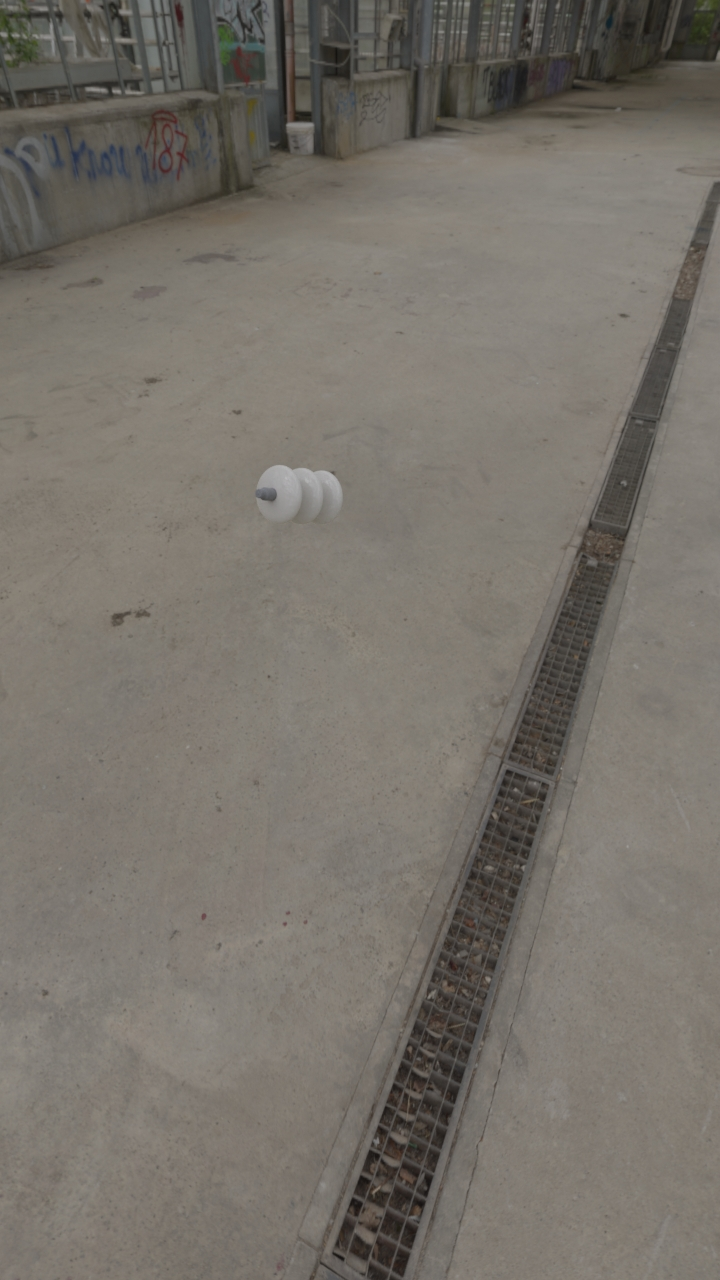ceramicinsulators: (254, 465, 343, 525)
